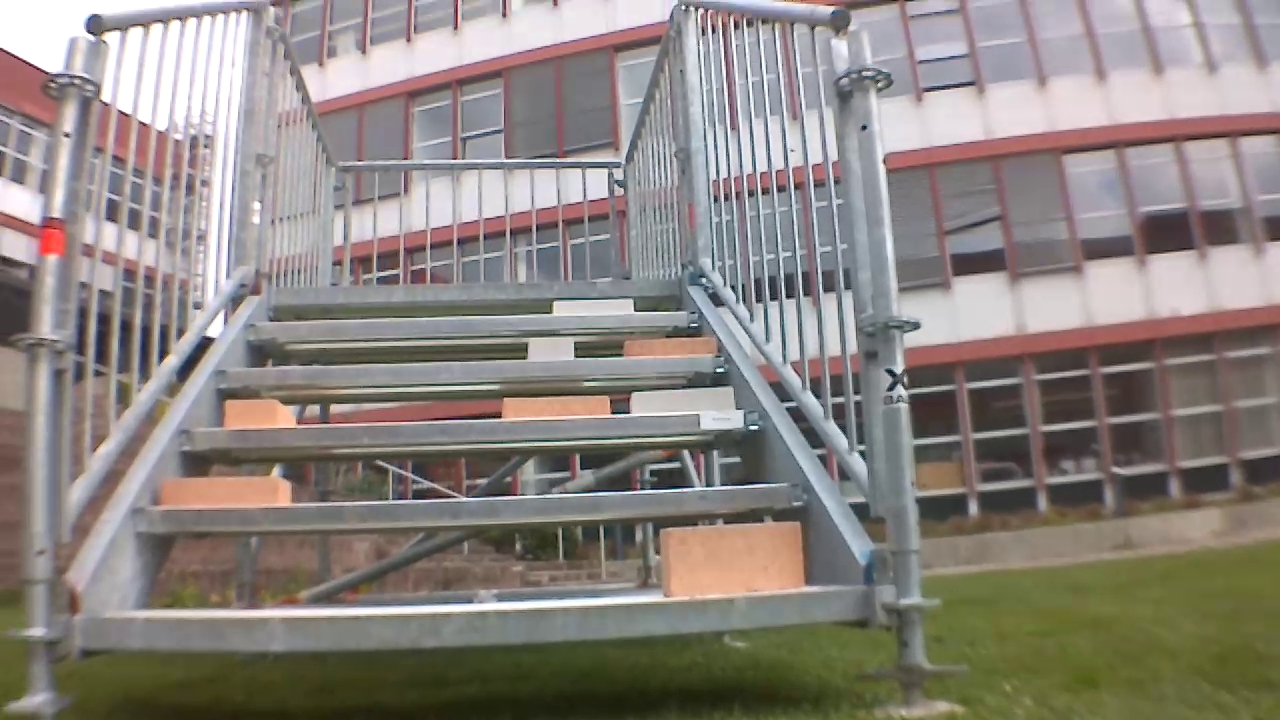brick: (656, 524, 799, 597), (623, 380, 737, 416), (157, 479, 298, 508), (498, 396, 608, 423), (620, 340, 726, 360), (221, 397, 291, 427), (555, 295, 634, 315), (524, 334, 572, 364)
edge: (78, 579, 879, 668), (133, 476, 813, 541), (178, 403, 773, 454), (209, 356, 737, 385), (245, 305, 706, 335), (271, 280, 685, 297)
stairs: (37, 0, 918, 710)
steps: (89, 278, 870, 657)
